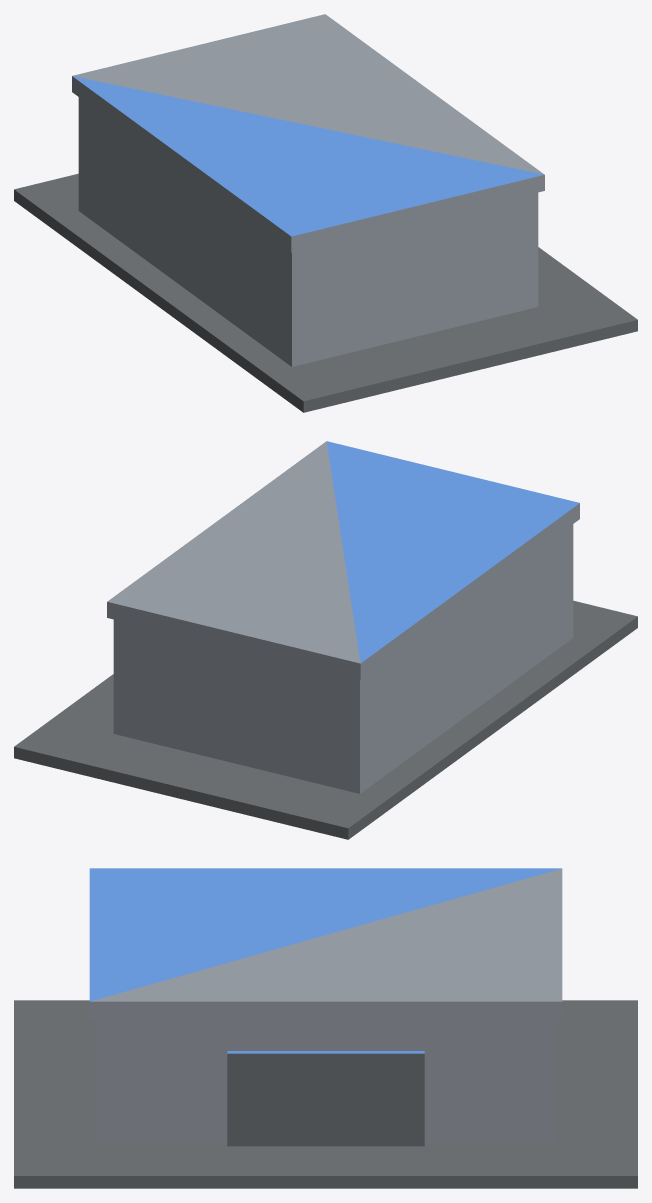
Rendered from veyran_barracks.glb.
3 renders of one model, top to bottom at view 1: azimuth 30°, elevation 25°; view 2: azimuth 150°, elevation 25°; view 3: azimuth 270°, elevation 25°, orthographic. The views are drawn at different scales.
Parts seen in each view (by area): view 1: hull; view 2: hull; view 3: hull, door.
Boxes of the visible parts, x1,y1,x2,y2 form: hull: (14, 14, 637, 412); hull: (14, 441, 637, 839); hull: (14, 868, 637, 1188); door: (227, 1051, 424, 1146).
Size of the model in its own units: 7.6 by 3.15 by 11.4.
